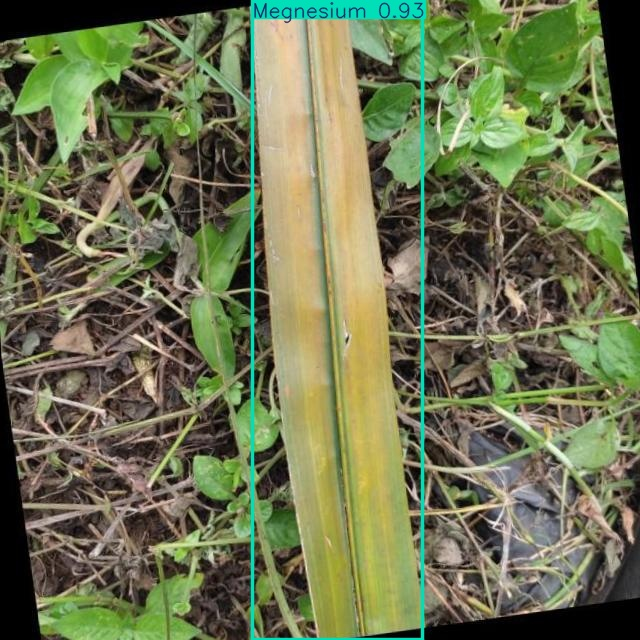Megnesium: (252, 0, 423, 640)
